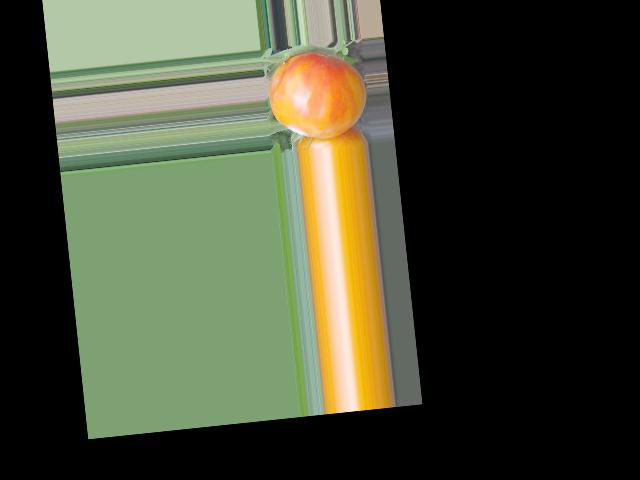tomato: (265, 47, 370, 143)
